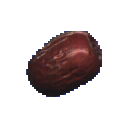gd: (20, 17, 109, 104)
